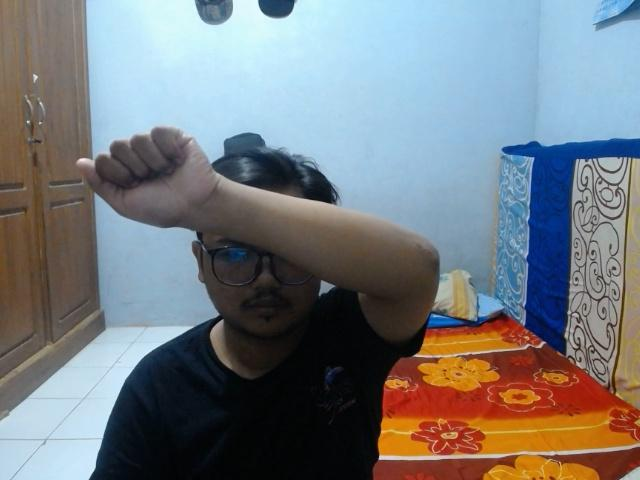Grab: (74, 121, 213, 233)
